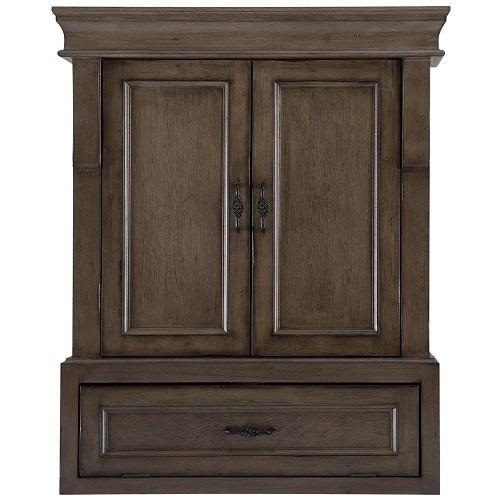cabinet_door: (106, 63, 252, 355), (252, 61, 393, 355), (83, 392, 422, 476)
handle: (222, 422, 278, 442), (230, 178, 246, 234), (258, 181, 270, 238)
